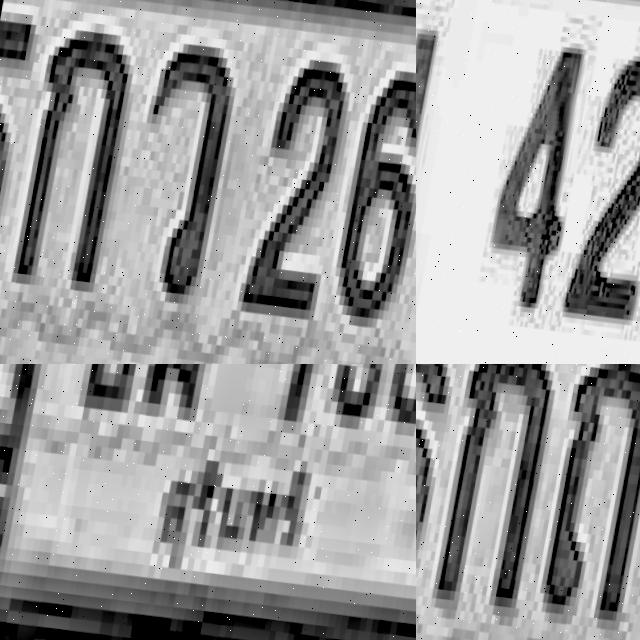license-plate: (0, 0, 416, 364), (0, 364, 416, 640), (416, 0, 640, 364), (416, 364, 640, 640)
